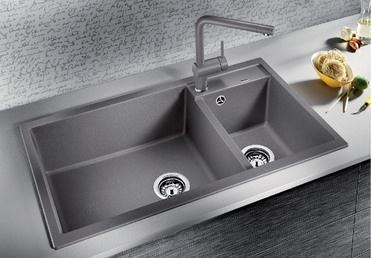Lavaplatos: (10, 1, 343, 242)
